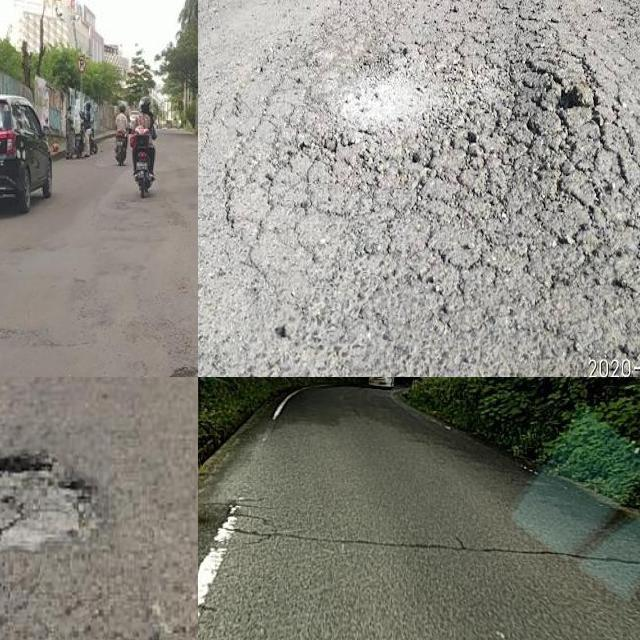Lubang: (0, 454, 101, 541)
Melintang: (237, 517, 640, 574)
Retak Buaya: (400, 29, 640, 334)
